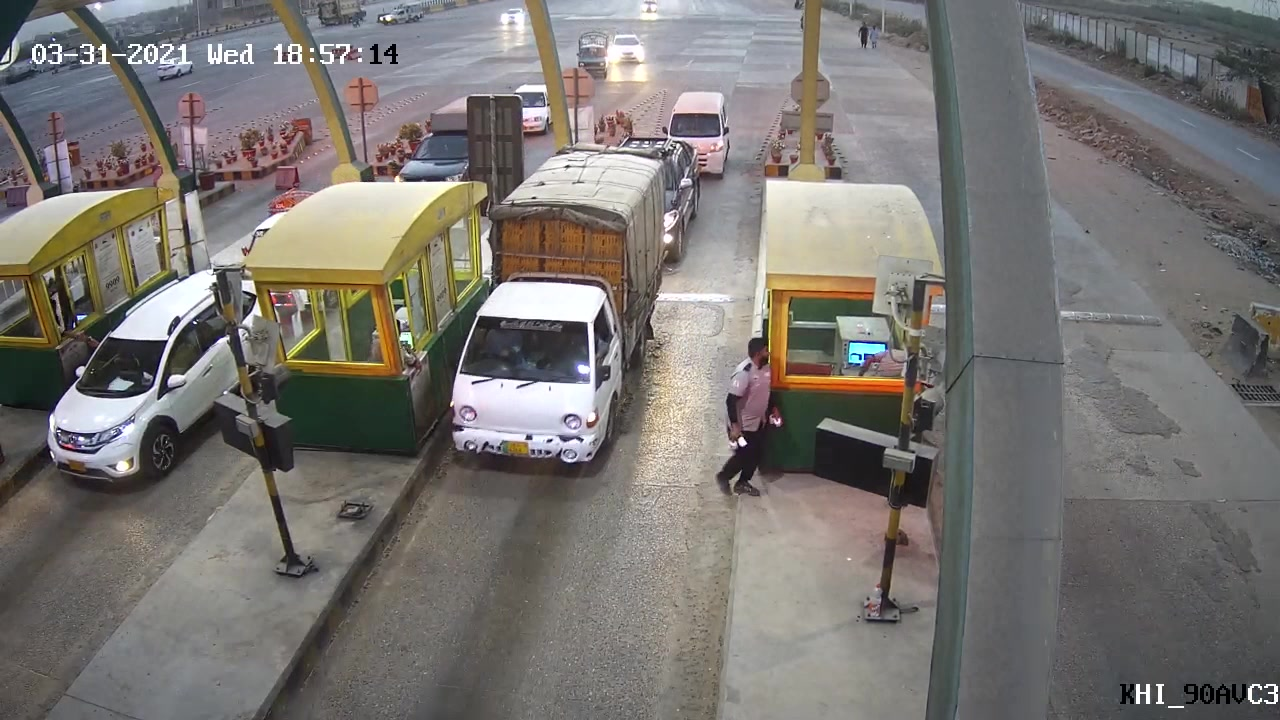F2: (431, 145, 686, 480)
